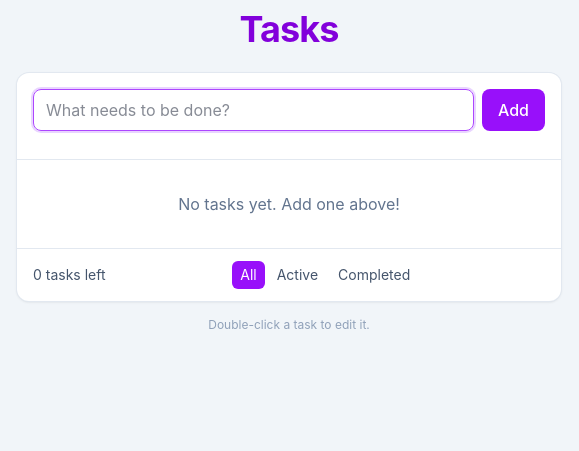
US-5 Filter › filters by status, highlights the selection and shows the counter
Type "A" into the field named "New task" at (254, 110), box [33,89,474,131]
Then press Enter
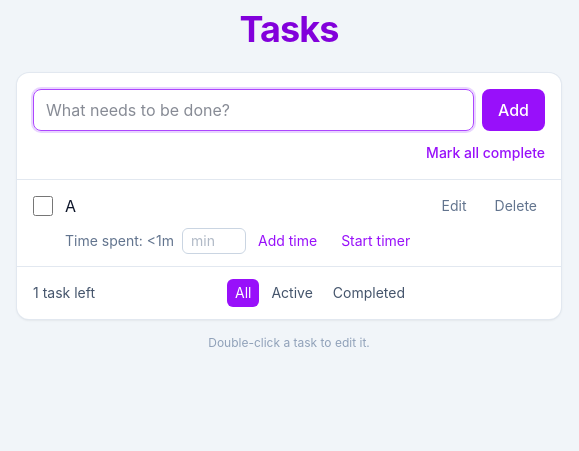
Type "B" into the field named "New task" at (254, 110), box [33,89,474,131]
Then press Enter
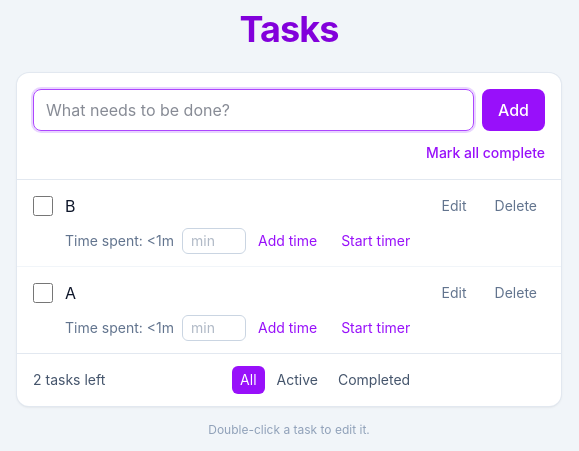
Click the checkbox named "\"A\"" at (43, 293), box [33,283,53,303]
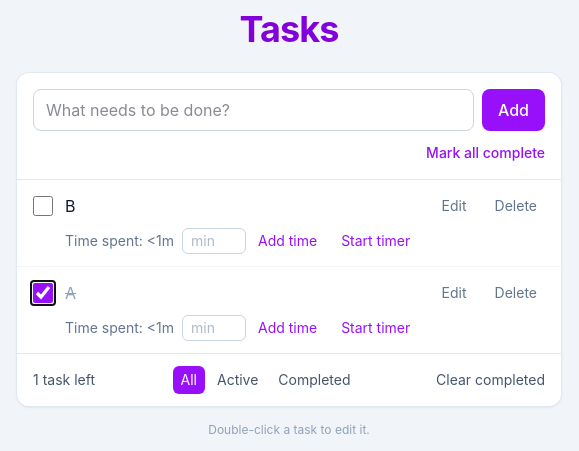
Result: the text "1 task left" is shown at [33,370,95,390]
Click the button "Active" at (238, 380), box [209,366,266,394]
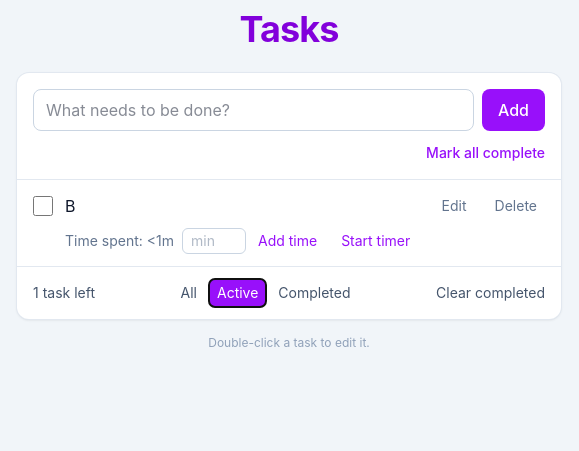
Result: the button "Active" is pressed at [209,279,266,307]
Click the button "Completed" at (314, 293), box [270,279,359,307]
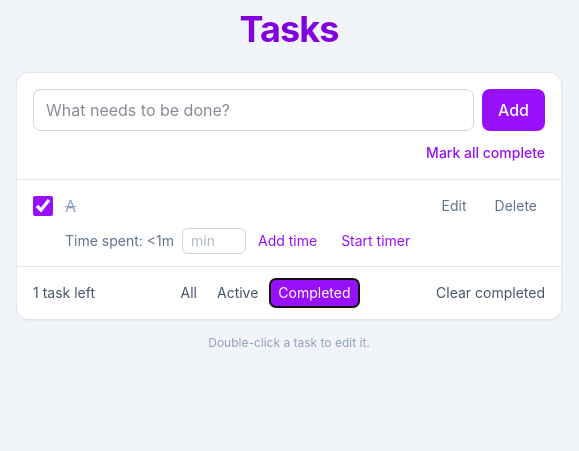
Click the checkbox named "\"A\"" at (43, 206), box [33,196,53,216]
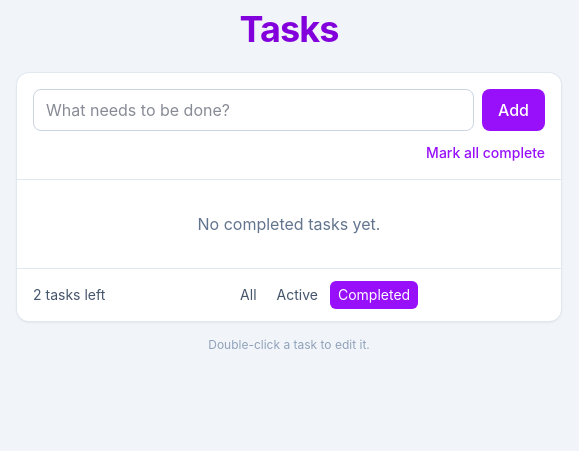
Result: the text "No completed tasks yet." is shown at [198,214,380,234]
Result: the text "2 tasks left" is shown at [33,285,105,305]
